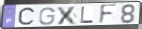8: (121, 4, 137, 25)
C: (17, 6, 37, 28)
F: (98, 3, 118, 26)
G: (38, 7, 56, 26)
L: (80, 7, 95, 24)
X: (56, 6, 78, 26)
